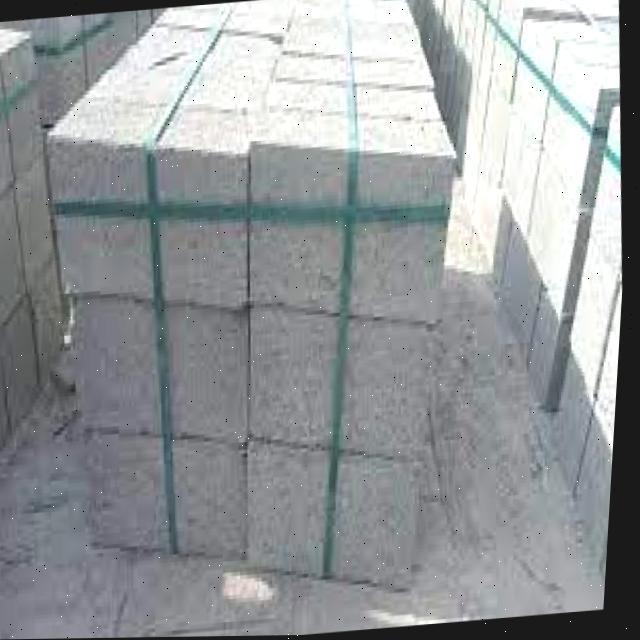bricks: (51, 0, 451, 585)
